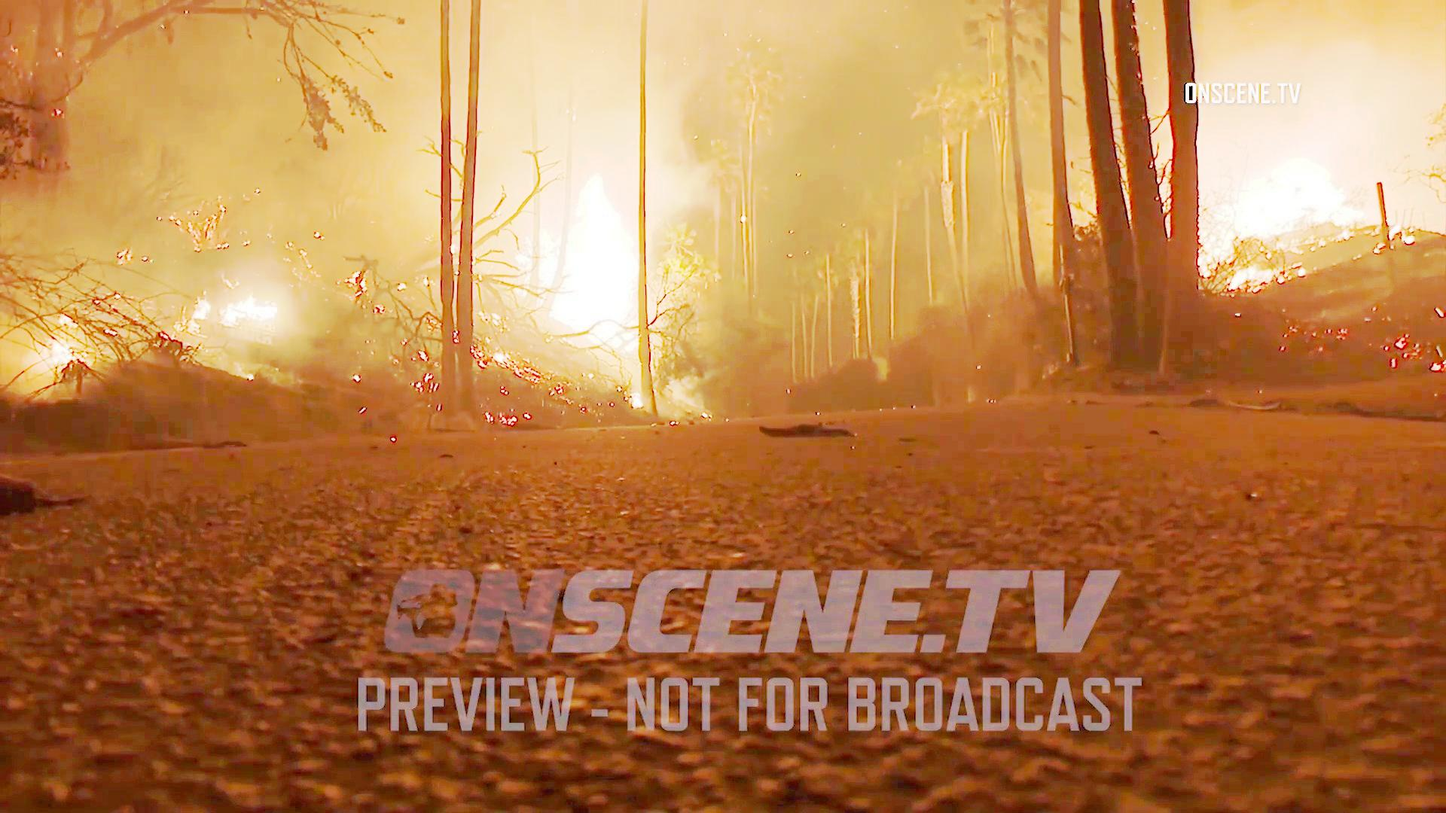fire: (520, 157, 651, 350), (1203, 142, 1368, 280)
